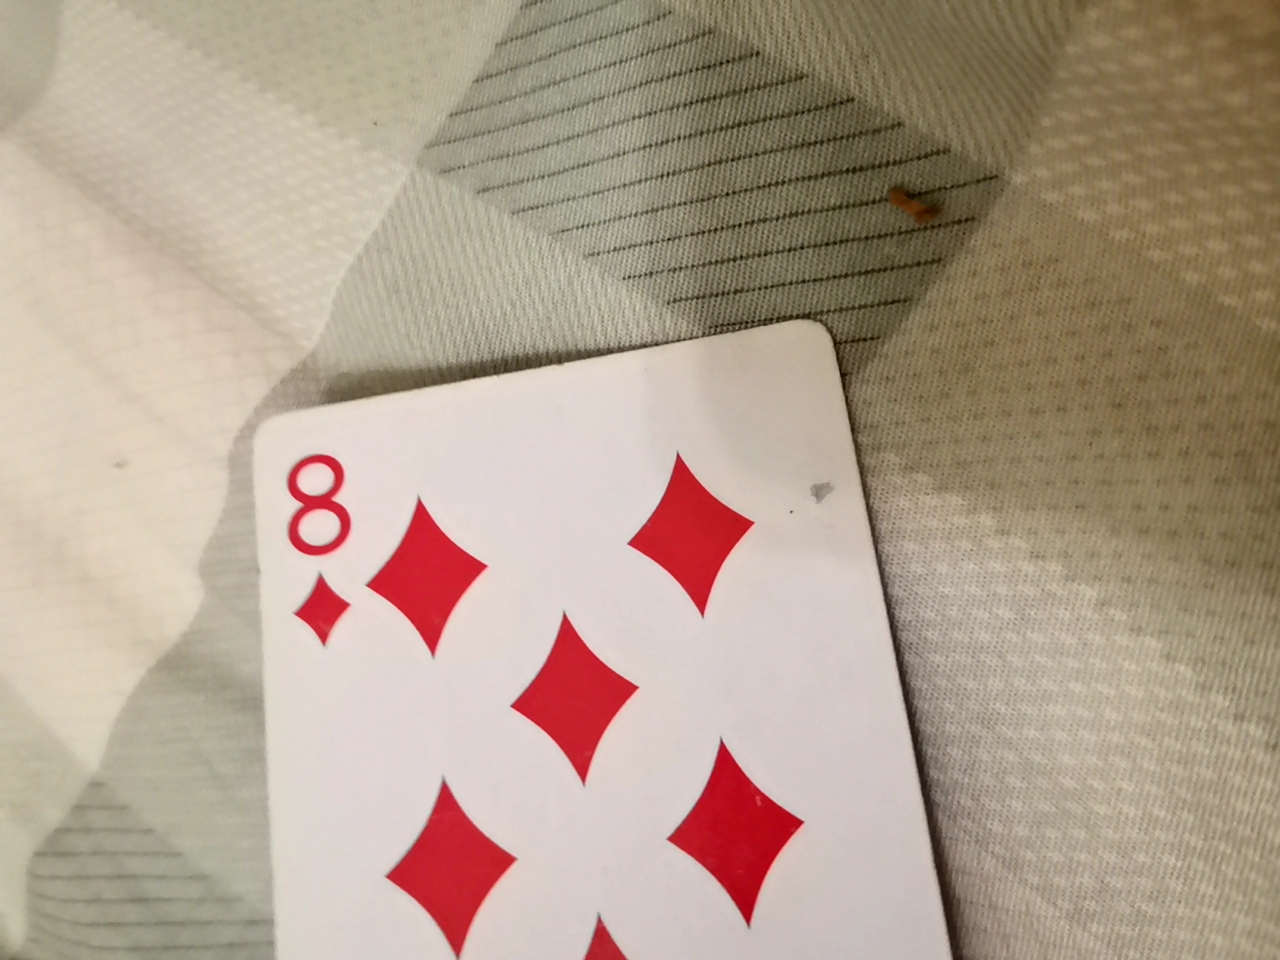fk 8: (231, 306, 1013, 960)
